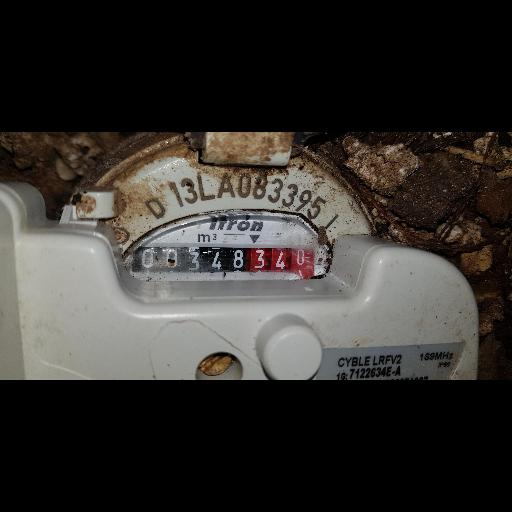0: (290, 249, 315, 280), (159, 247, 182, 274), (139, 247, 160, 273)
3: (182, 247, 204, 274), (251, 247, 272, 274)
4: (204, 247, 227, 273), (271, 248, 292, 274)
8: (227, 248, 252, 273)
border_water_meter_number: (136, 244, 319, 284)
